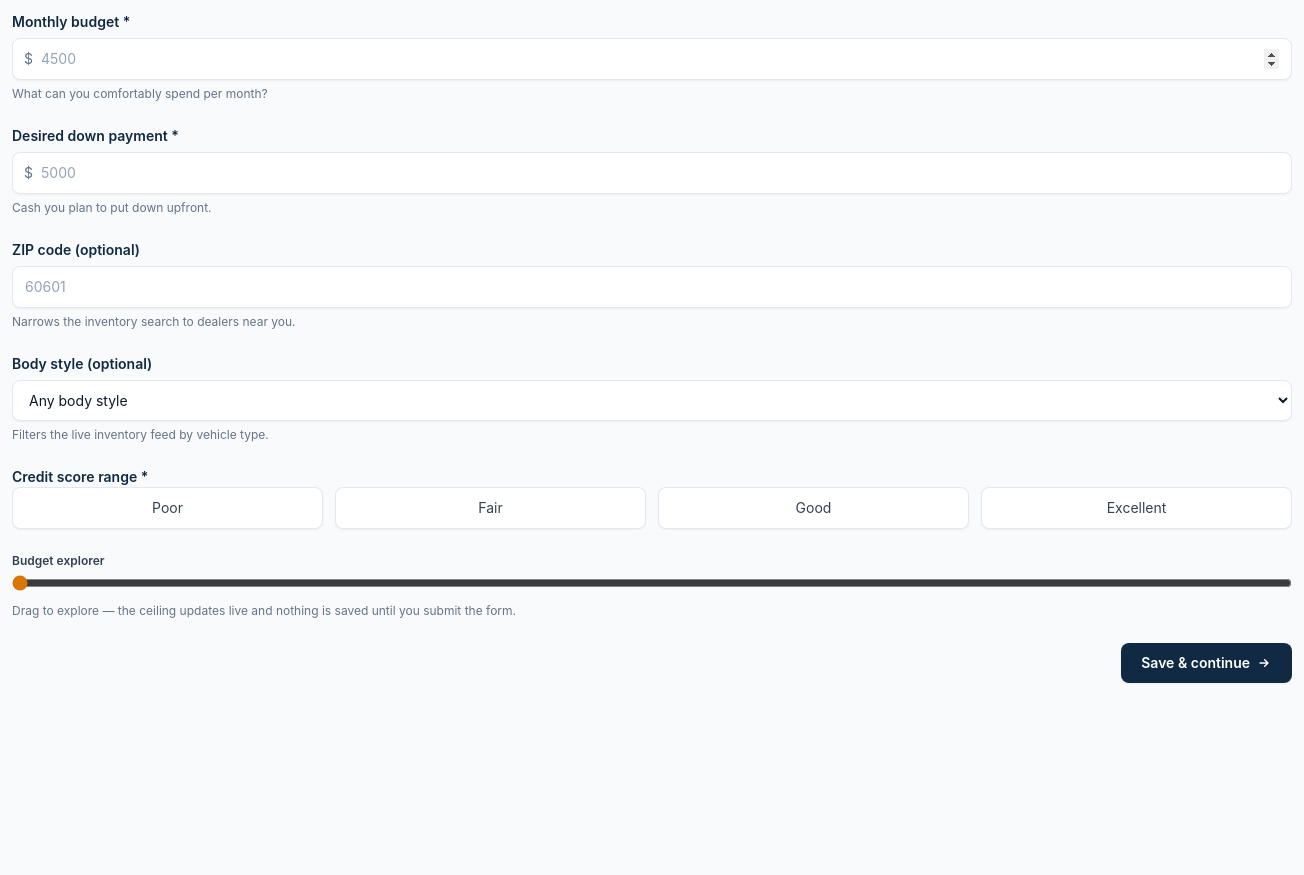
Test: IntakeForm › clears field error on edit
Click the button "Save & continue" at [1207, 663], box [1121,643,1292,683]
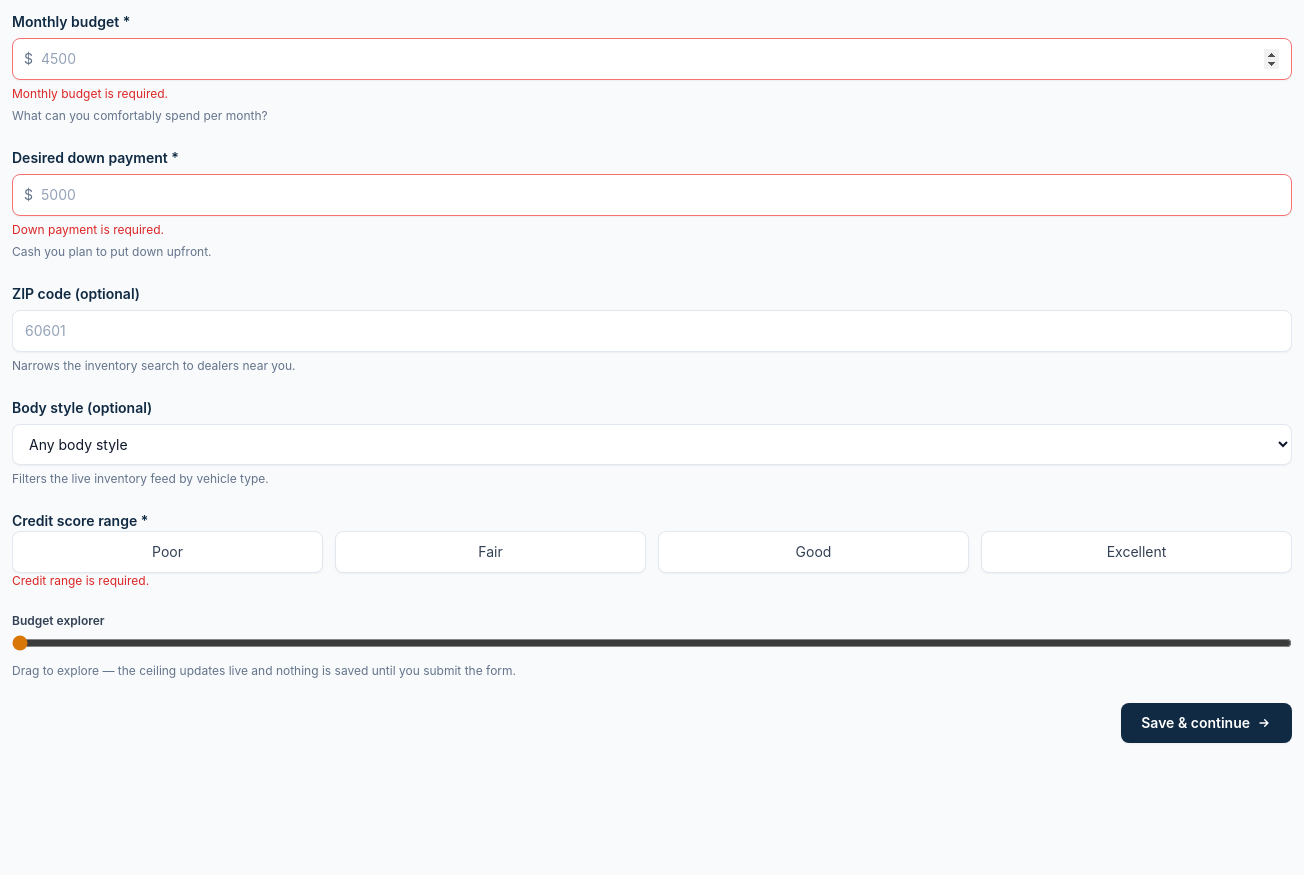
Check: the text "Monthly budget is required." is shown, box [12,86,168,101]
Type "5000" into the number field labelled "Monthly budget *" at [652, 59], box [12,38,1292,80]
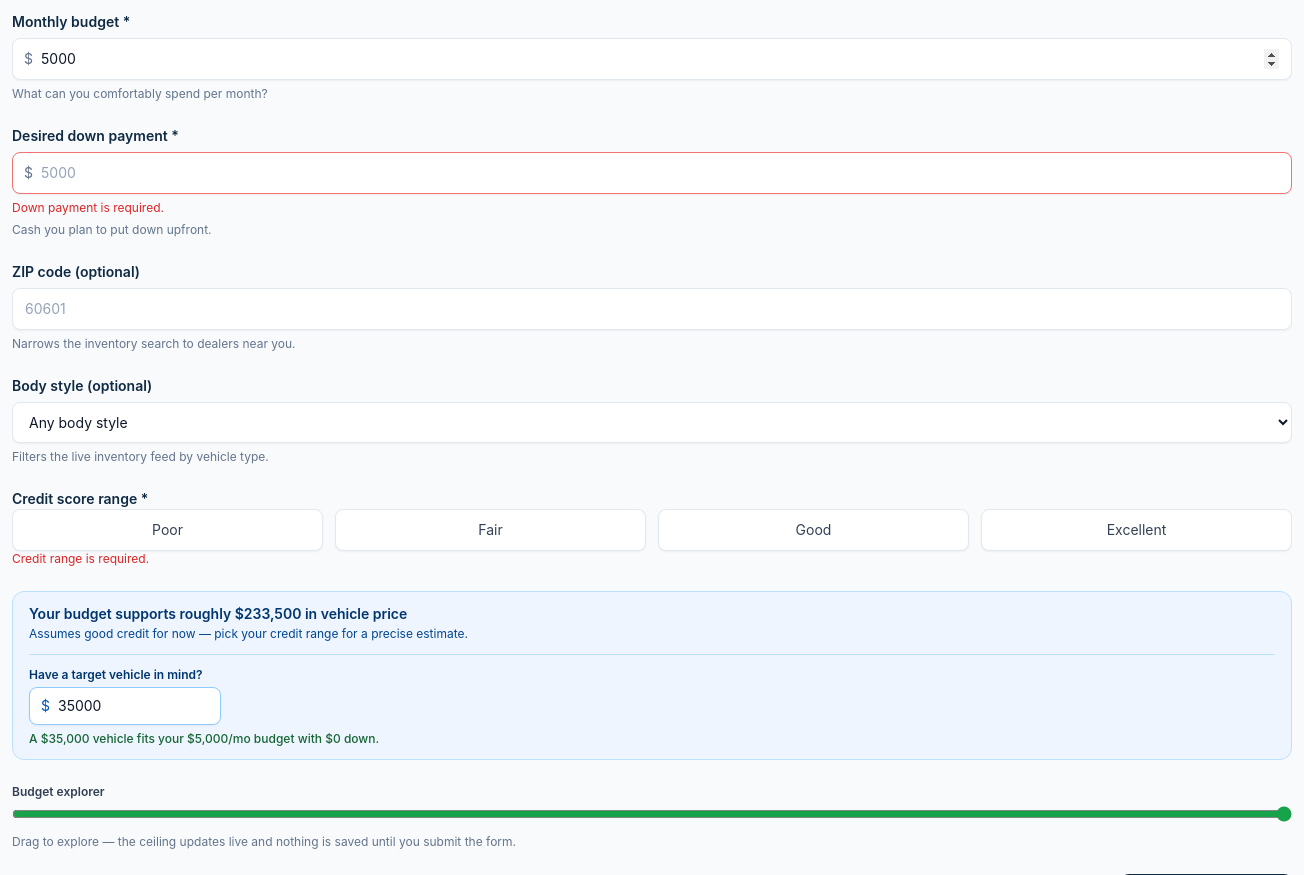
Check: the text "Monthly budget is required" is gone
